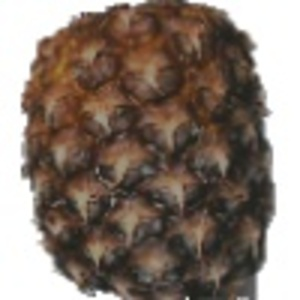abacaxi: (14, 1, 280, 297)
